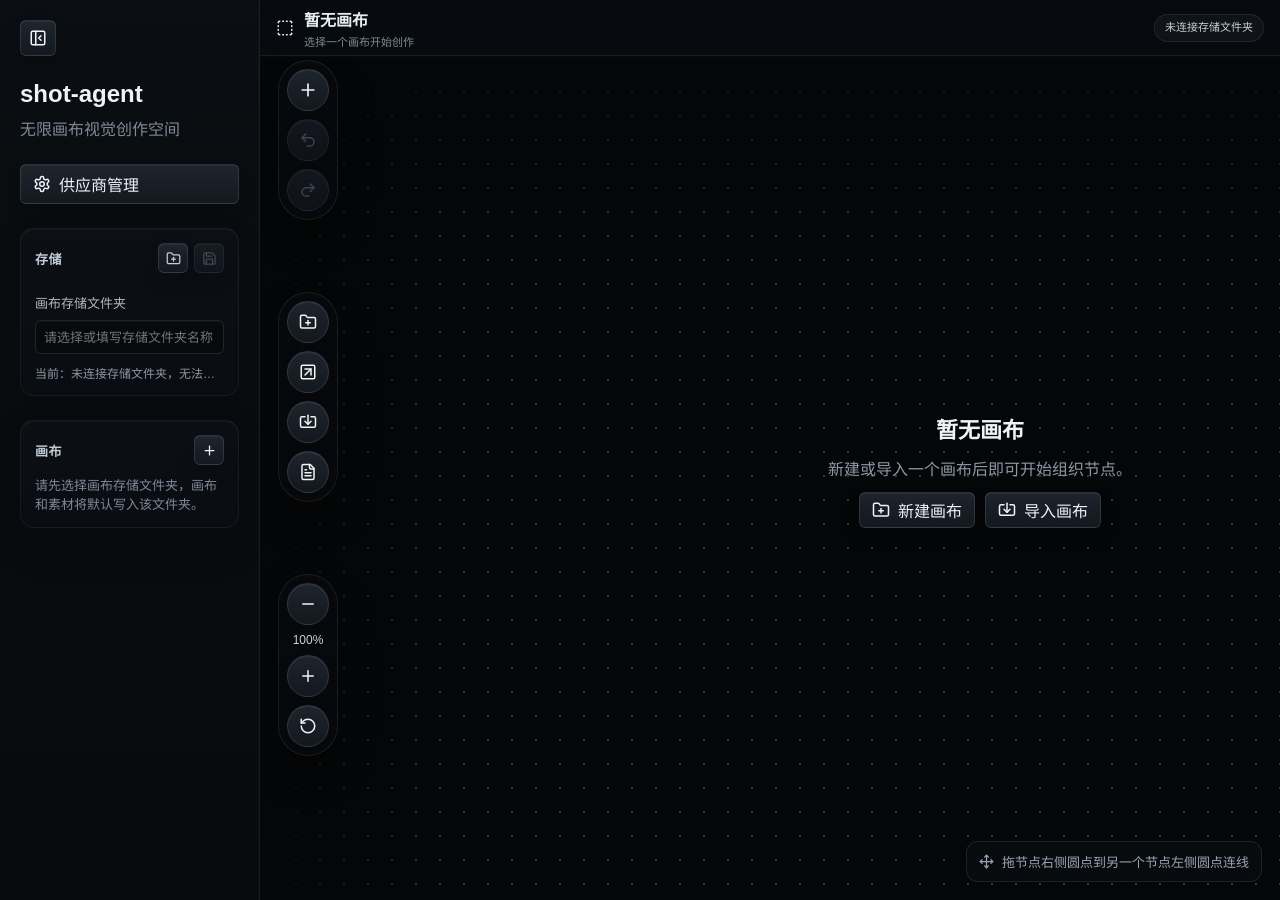
Test: App image preview › keeps asset panel wheel events scrollable inside the canvas
The image size is (1280, 900).
Click the button named "资产".
click(308, 472)  # box 287,451 -> 329,493
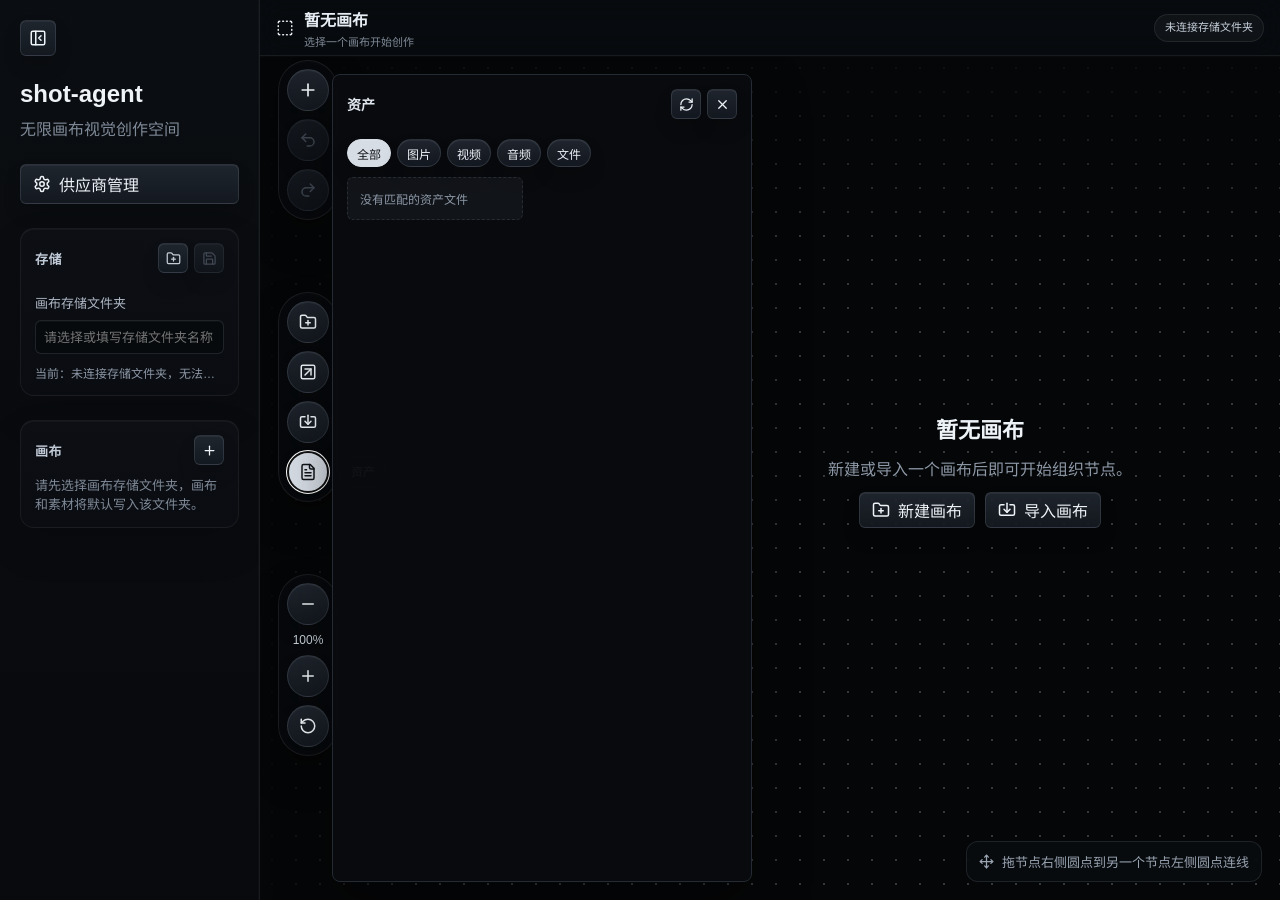
Expected: the element with class "canvas-asset-sidebar" is shown, 332,74 -> 752,882
